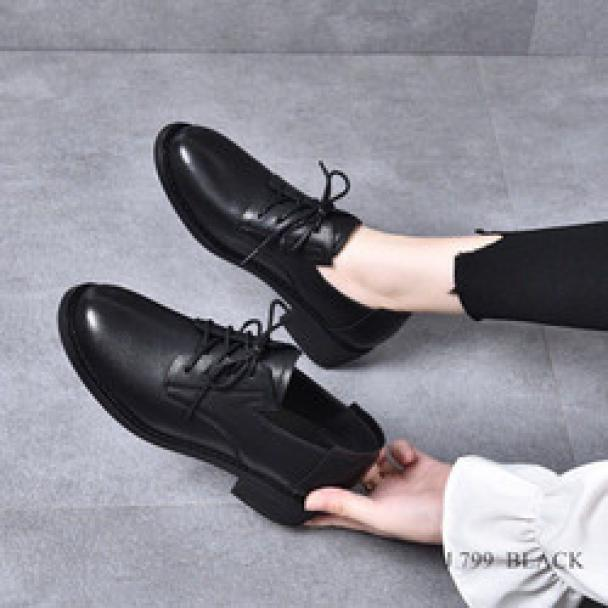Sepatu: (54, 278, 386, 532), (150, 117, 414, 359)
